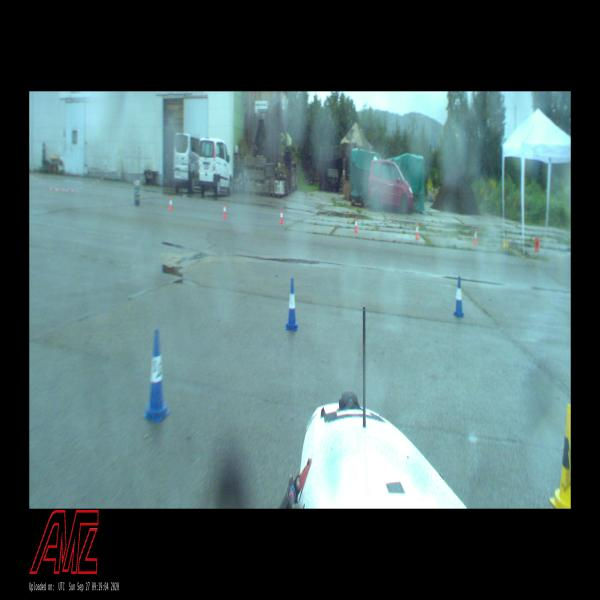blue_cone: (145, 330, 167, 420), (287, 278, 298, 330), (455, 277, 464, 317)
orange_cone: (355, 216, 358, 233), (474, 230, 477, 245), (535, 239, 539, 250), (169, 197, 172, 211), (223, 204, 226, 218), (280, 210, 283, 223), (416, 224, 418, 240)
yellow_cone: (554, 402, 571, 508)
